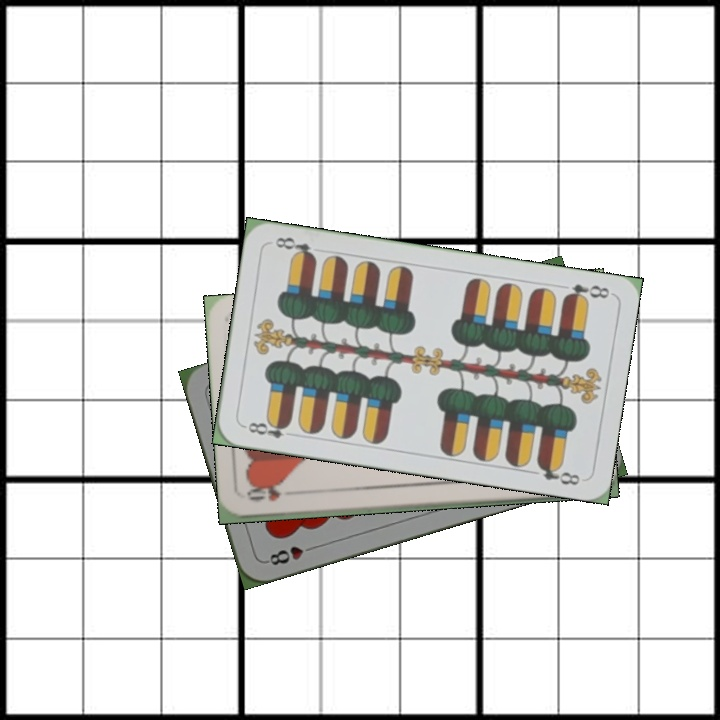E8: (240, 416, 298, 441), (559, 280, 612, 305)
H8: (261, 541, 319, 568)
HO: (243, 485, 283, 504)
